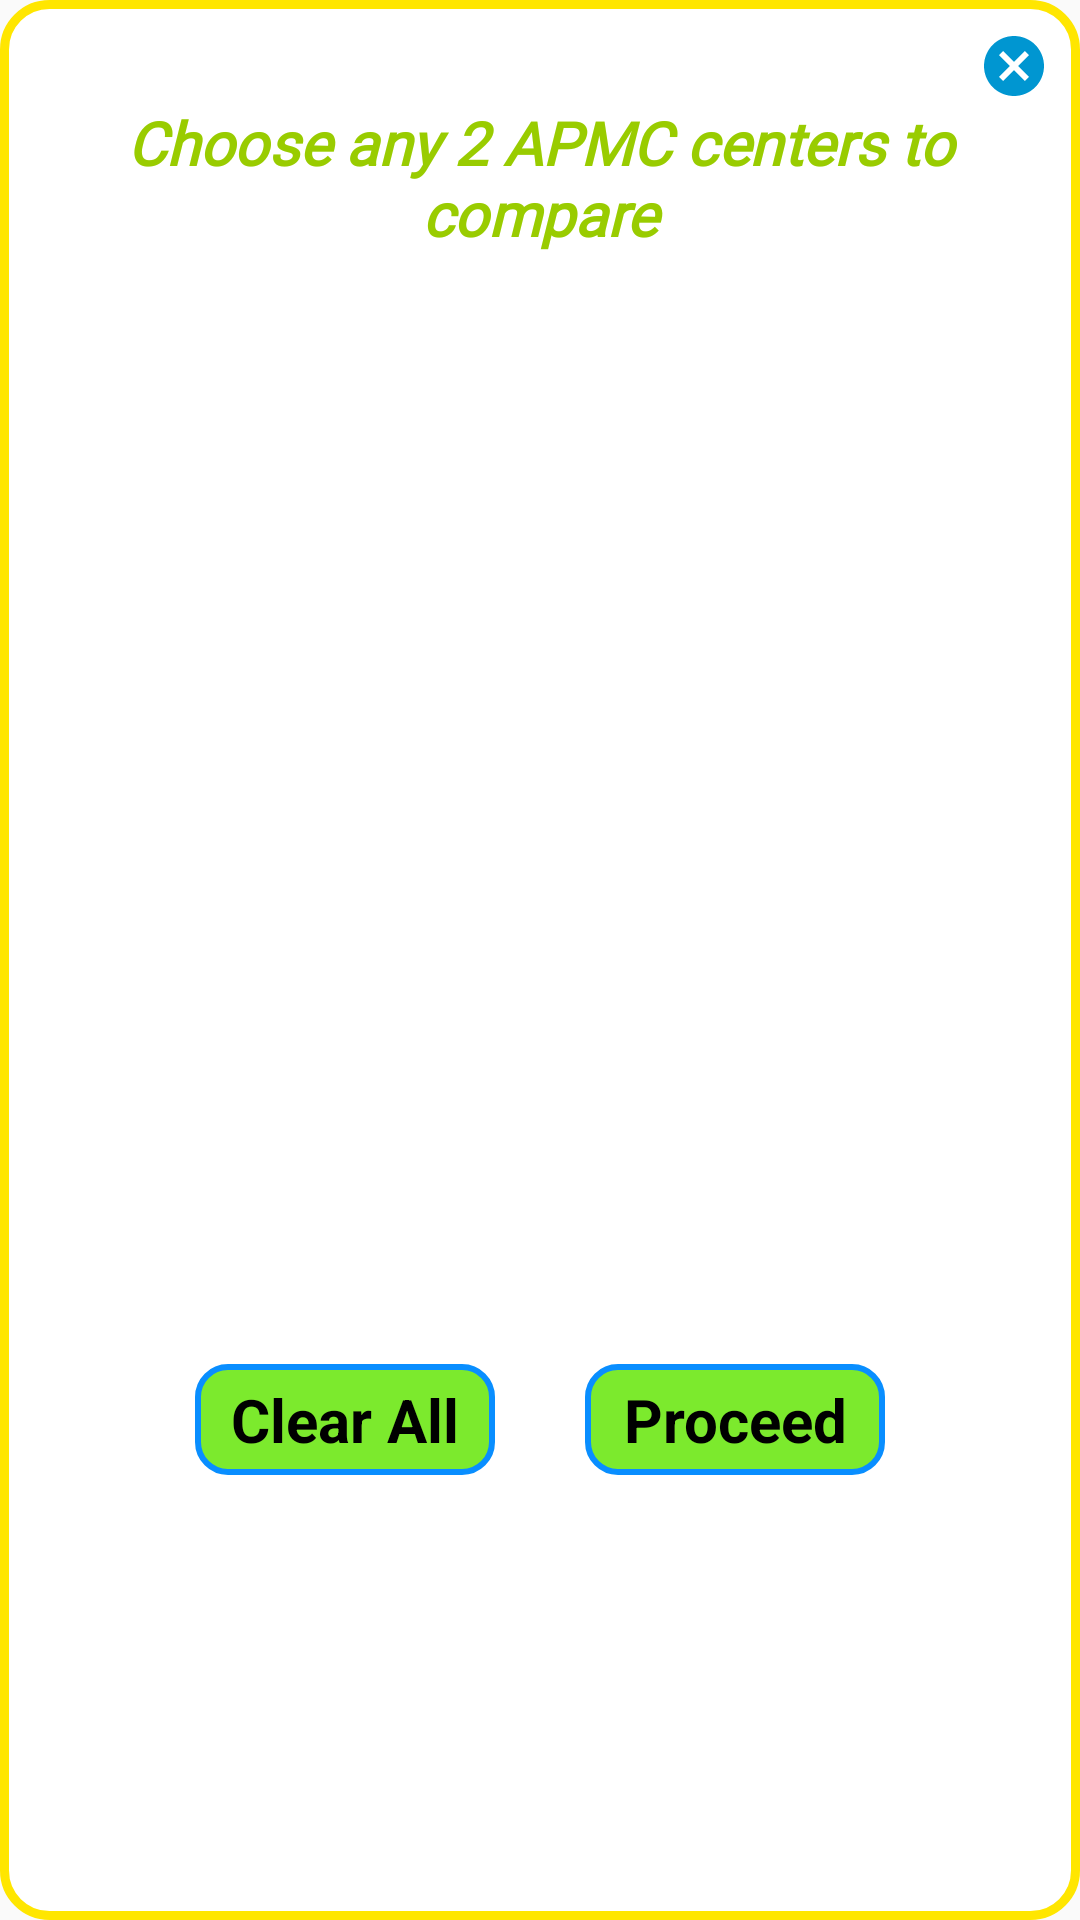

Icon bounding boxes for this 1080px×1920px phone screenshot, format rect(x1, y1, x2, y2):
cancel: rect(984, 36, 1044, 96)
